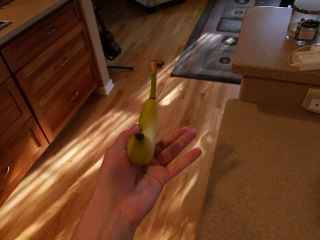banana: (125, 60, 166, 171)
